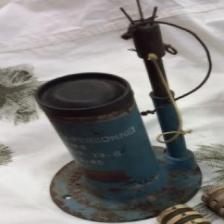M2A1: (32, 3, 207, 224)
